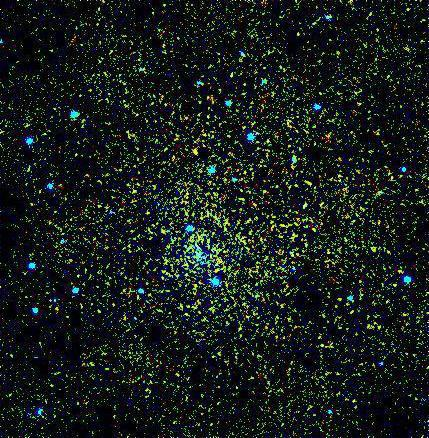star: (184, 136, 214, 166)
